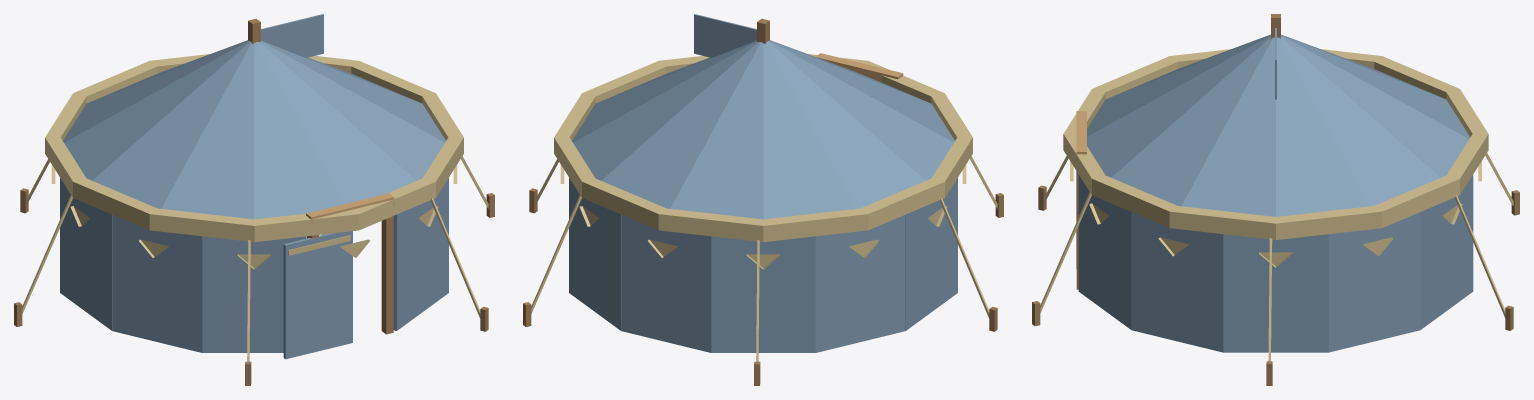
File: siege-command-pavilion.glb
3 renders of one model, left to right at view 1: azimuth 30°, elevation 25°; view 2: azimuth 150°, elevation 25°; view 3: azimuth 270°, elevation 25°, orthographic.
Parts seen in each view (by area): view 1: siege-command-pavilion, tent-flap/cloth, tent-flap/straw; view 2: siege-command-pavilion; view 3: siege-command-pavilion.
Boxes of the visible parts, x1=… form: siege-command-pavilion: x1=14, y1=14, x2=494, y2=385; tent-flap/cloth: x1=283, y1=231, x2=352, y2=359; tent-flap/straw: x1=288, y1=235, x2=350, y2=255; siege-command-pavilion: x1=523, y1=14, x2=1003, y2=385; siege-command-pavilion: x1=1032, y1=14, x2=1519, y2=385.
Size of the model in its own units: 9.1 by 4.63 by 8.03.
